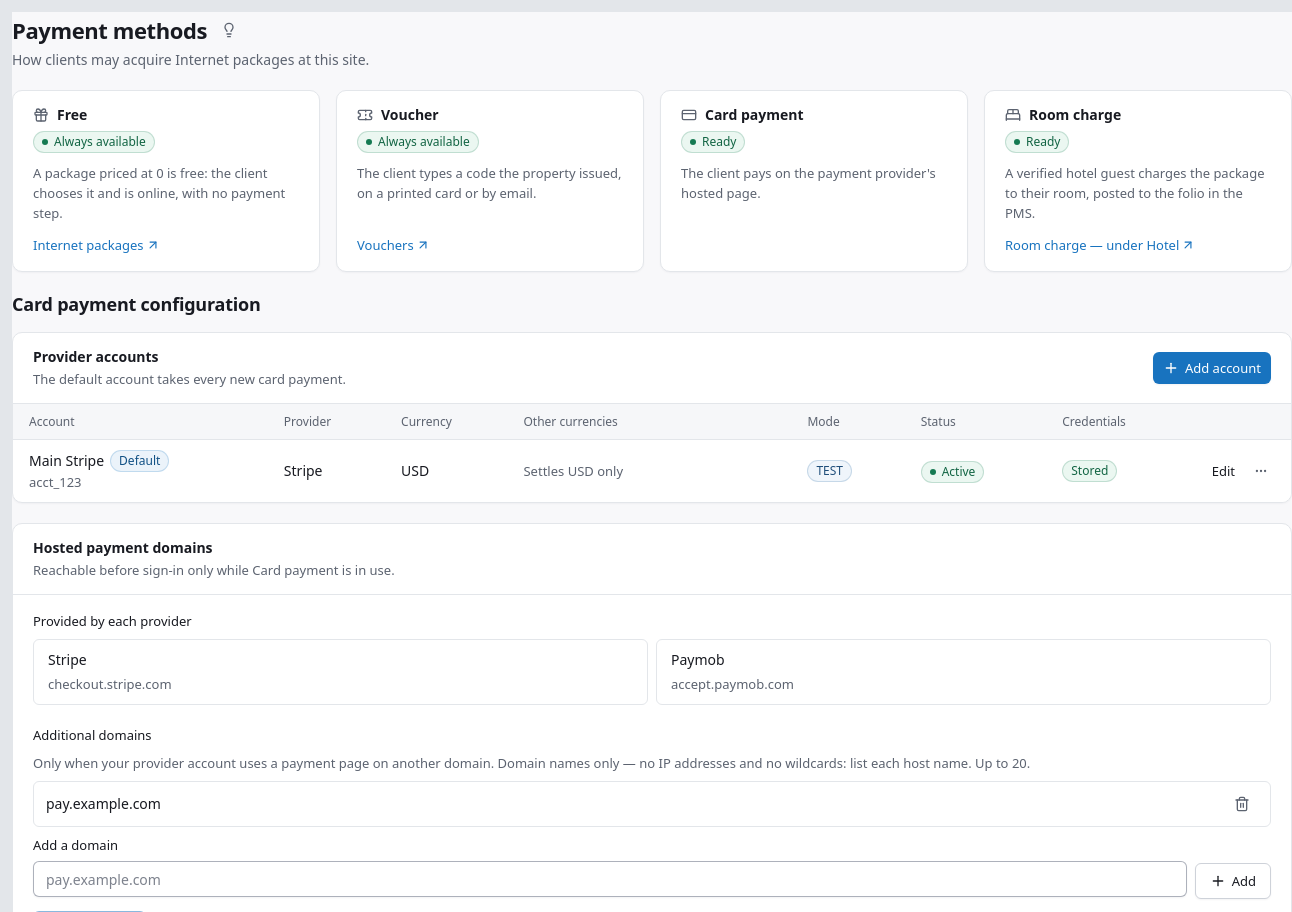
Test: Payment methods — Card payment configuration › tests a connection and reports the answer
Expected: the text "Main Stripe" is shown, [29,451,104,471]
Press Enter in the button named "Actions for Main Stripe", box [1247,457,1275,485]
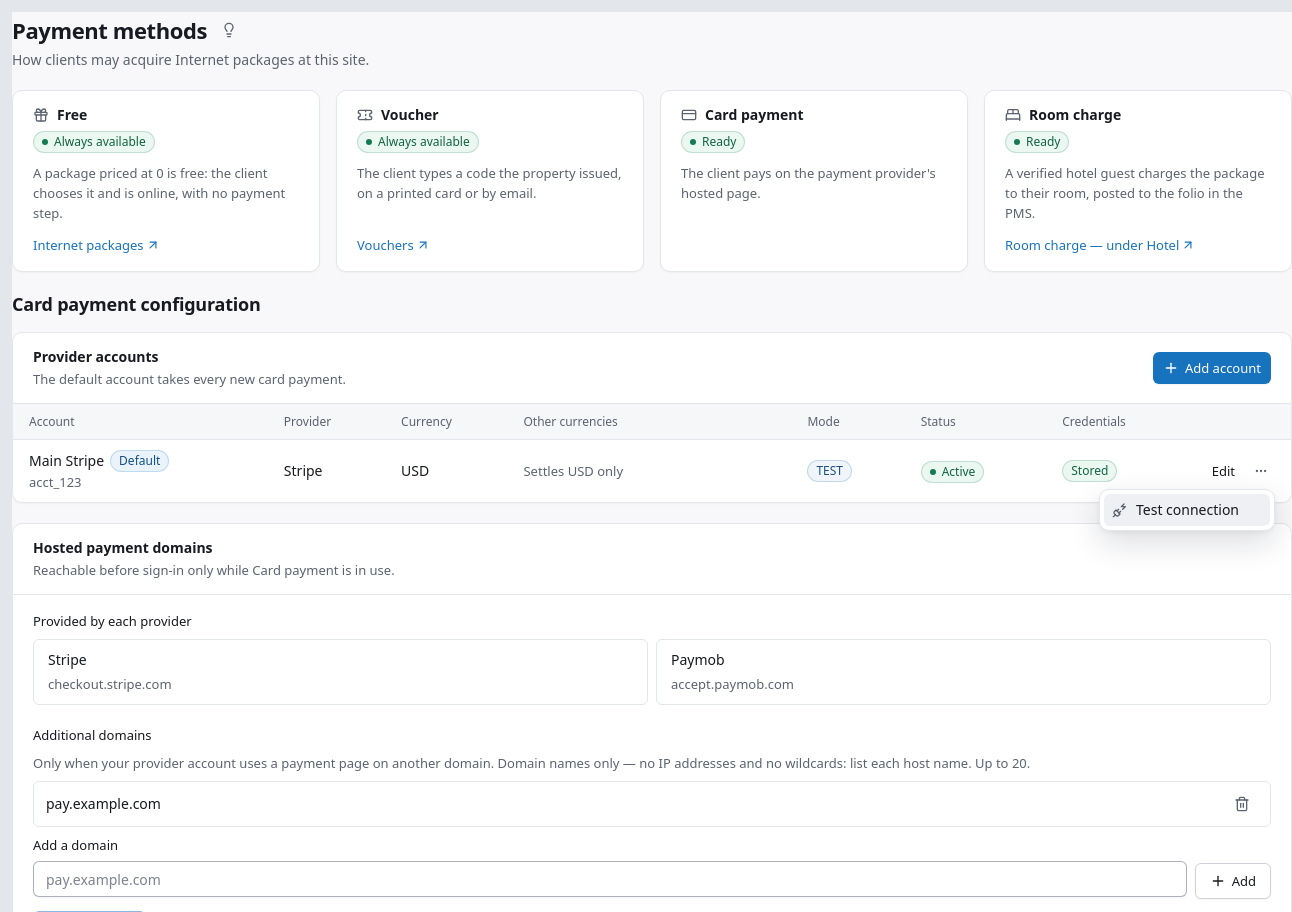
Click the menu item "Test connection": (1187, 510) [1104,494,1270,526]
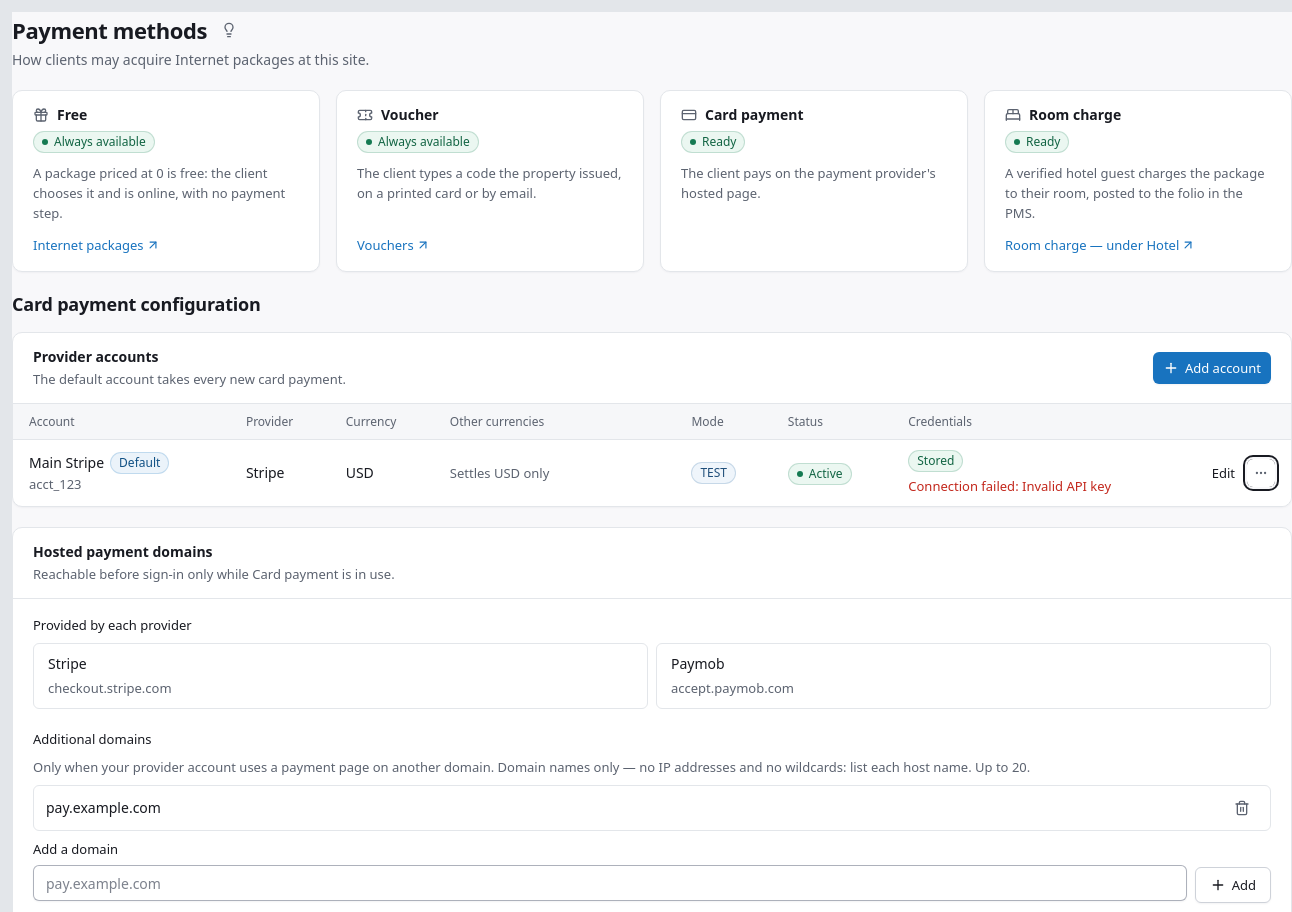
Now the text "Connection failed: Invalid API key" is shown, box [908,477,1111,495]
